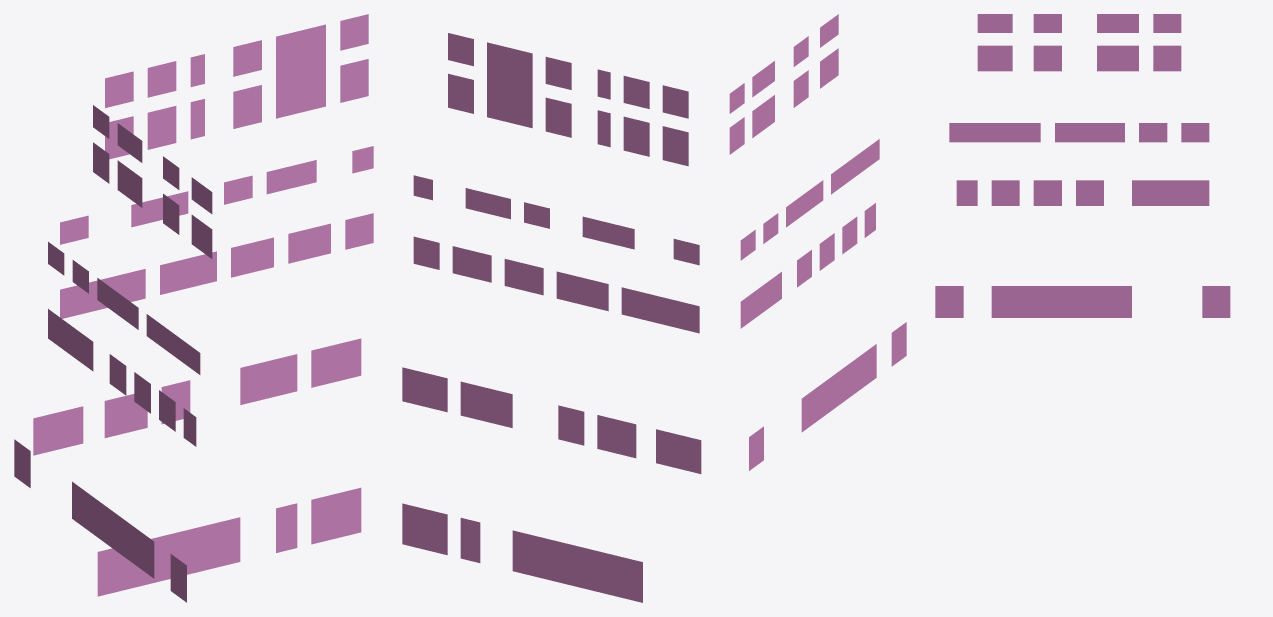
File: Street4-1.obj
3 renders of one model, left to right at view 1: azimuth 30°, elevation 25°; view 2: azimuth 150°, elevation 25°; view 3: azimuth 270°, elevation 25°, orthographic. The views are drawn at different scales.
Parts seen in each view (by area): view 1: ObjObject.005; view 2: ObjObject.005; view 3: ObjObject.005.
Part boxes in pixels (<box>): ObjObject.005: <box>14,14,373,602</box>; ObjObject.005: <box>402,14,906,602</box>; ObjObject.005: <box>935,14,1230,317</box>.
Size of the model in its own units: 5.1 by 7.3 by 4.6.
1 material, 1 textured.
